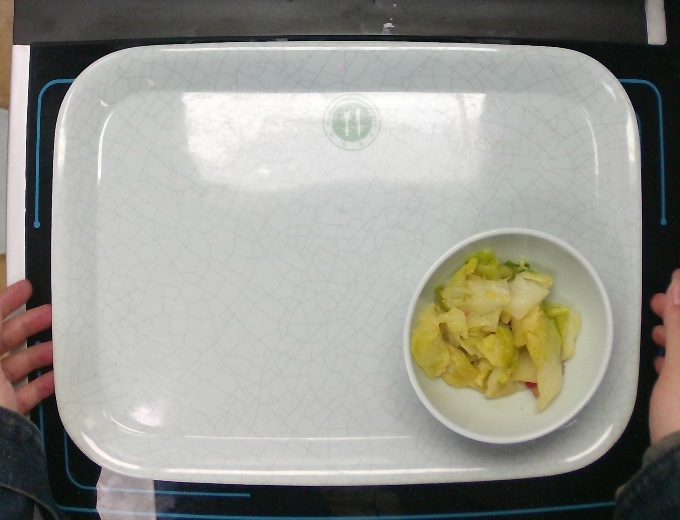JYsf-Fan_Wan: (397, 219, 617, 449)
